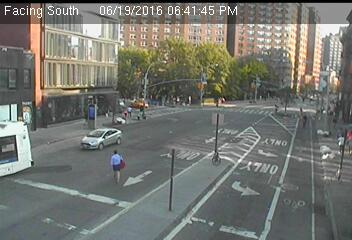neg: (83, 98, 103, 124), (18, 102, 36, 126), (152, 89, 168, 111), (320, 68, 335, 89), (249, 79, 260, 93)
pos: (101, 145, 131, 185), (331, 129, 351, 157), (329, 112, 343, 130), (123, 104, 133, 118)
